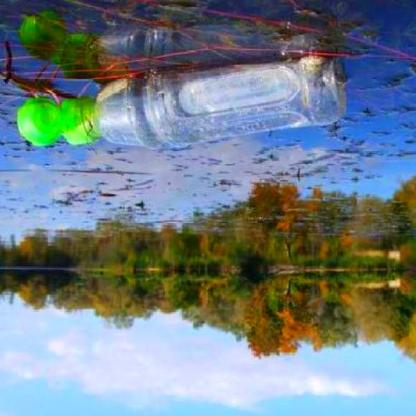plastic bottle: (69, 52, 346, 147)
